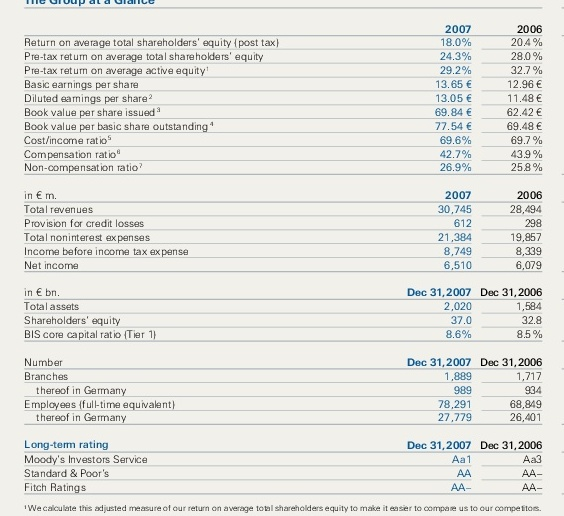table: (0, 0, 564, 516)
